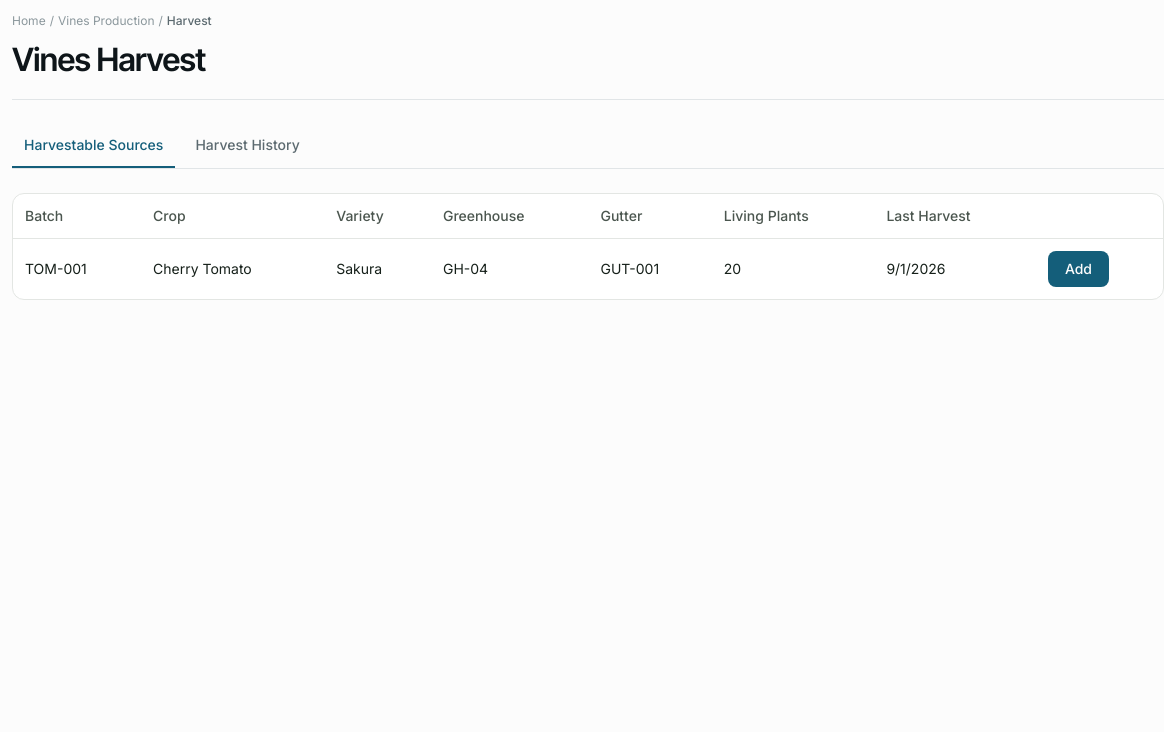
Test: VinesHarvestPage › completes the full Record Harvest flow: configure -> review -> confirm -> success
Expected: the text "GUT-001" is shown, [588,238,712,299]
Click the button "Add": click(1078, 269) [1048,251,1109,287]
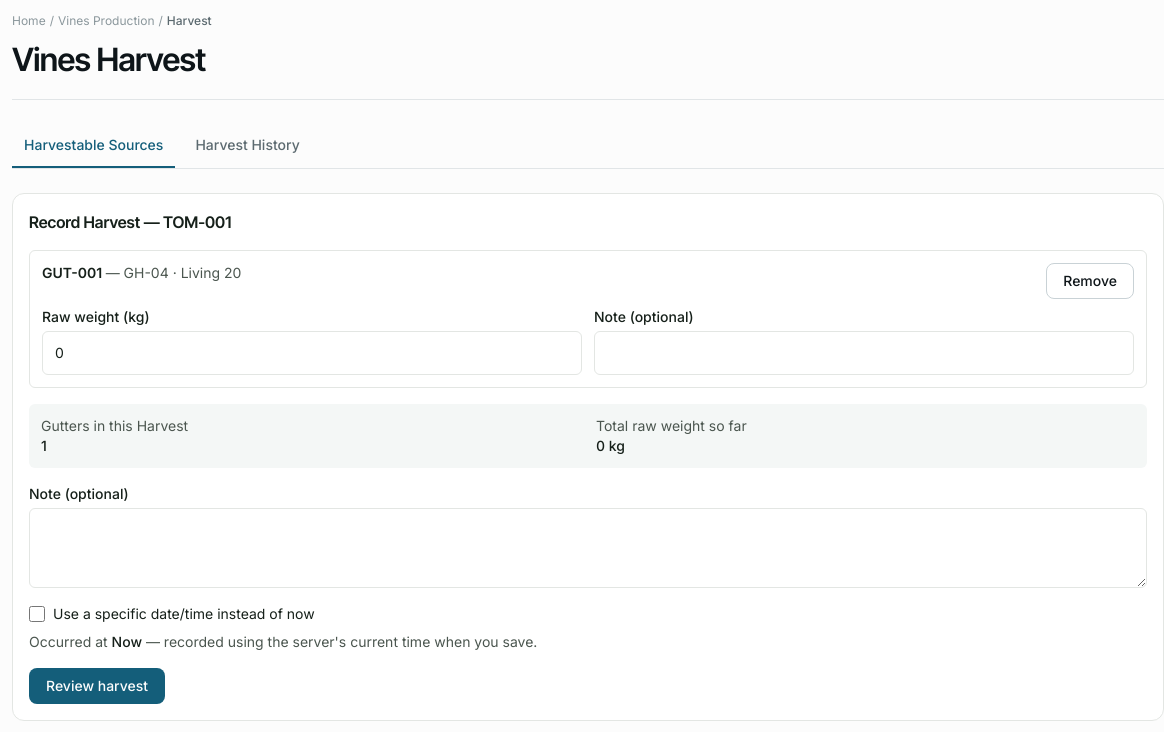
Now the number field labelled "Raw weight (kg)" is shown
Replace the text in the number field labelled "Raw weight (kg)" with "10": (312, 353) [42,331,582,375]
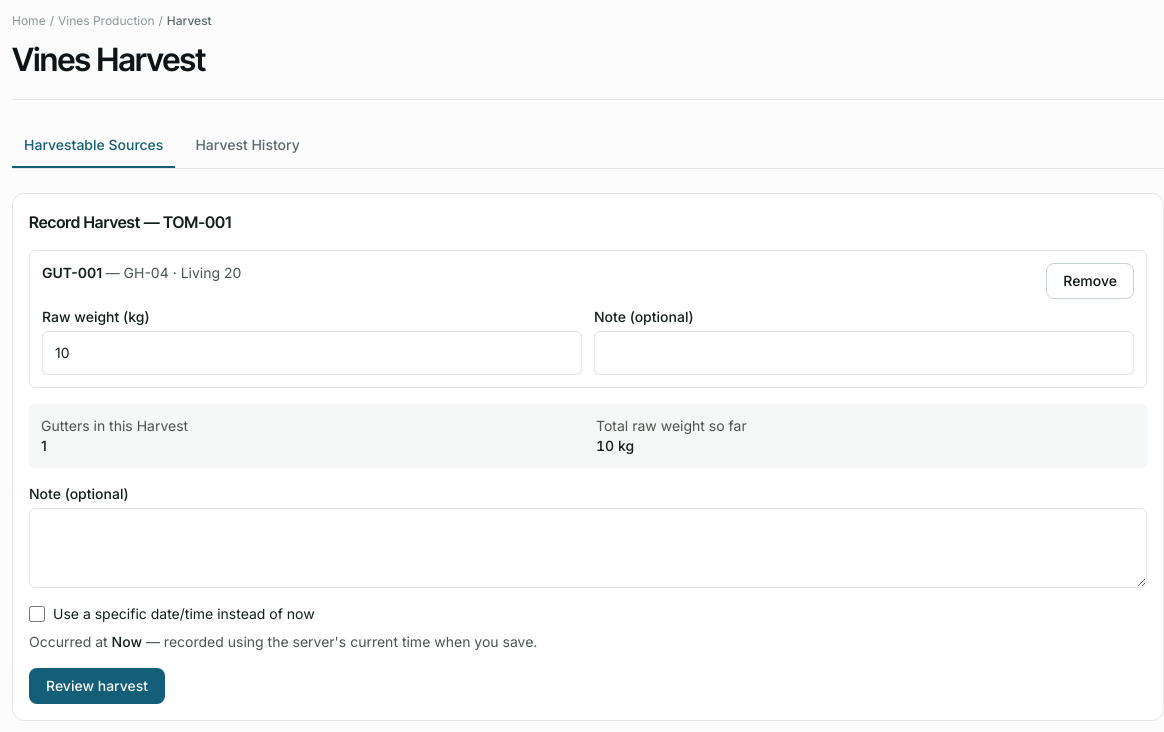
Click the button "Review harvest": click(97, 686) [29,668,165,704]
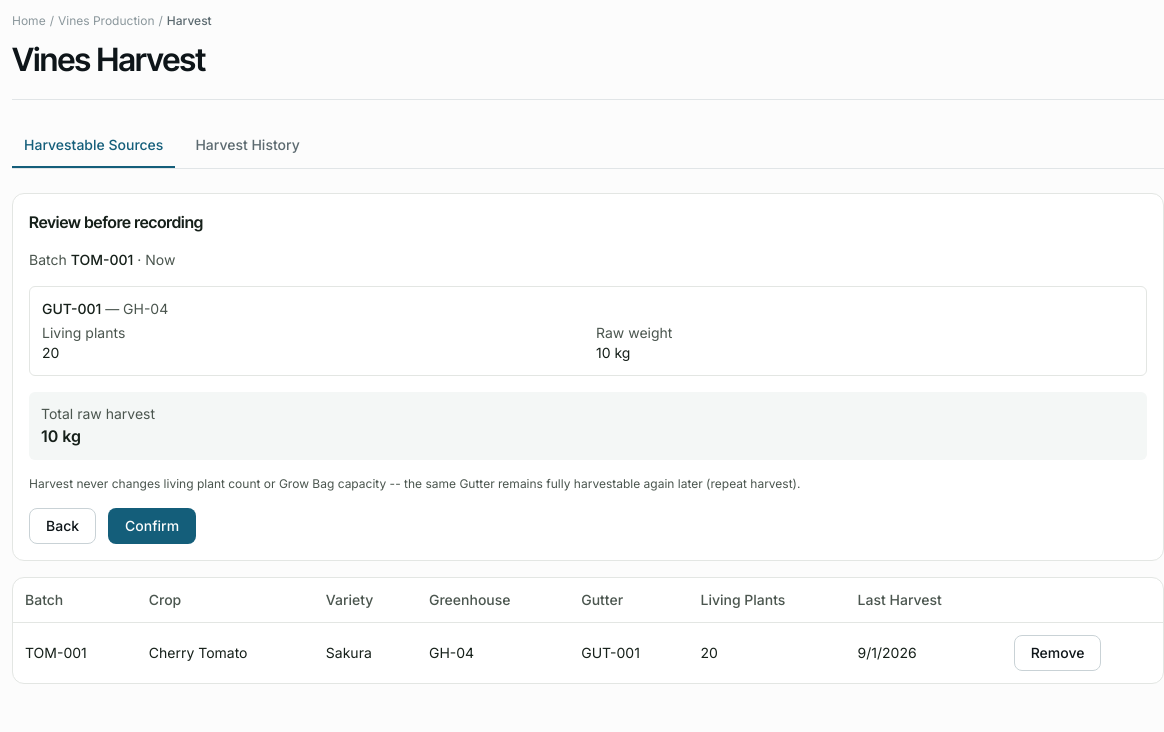
Now the heading "Review before recording" is shown, box [29,212,203,232]
Click the button "Confirm": click(152, 526) [108,508,196,544]
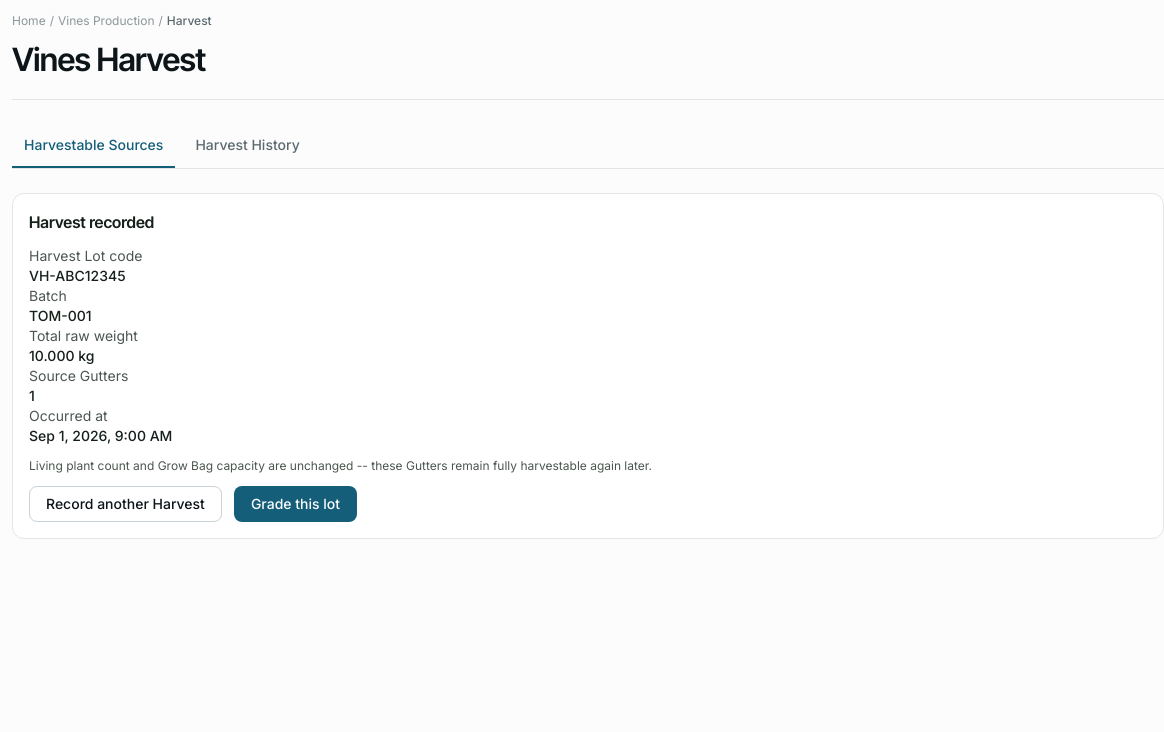
Now the heading "Harvest recorded" is shown, box [29,212,154,232]
Now the text "VH-ABC12345" is shown, box [29,267,126,284]
